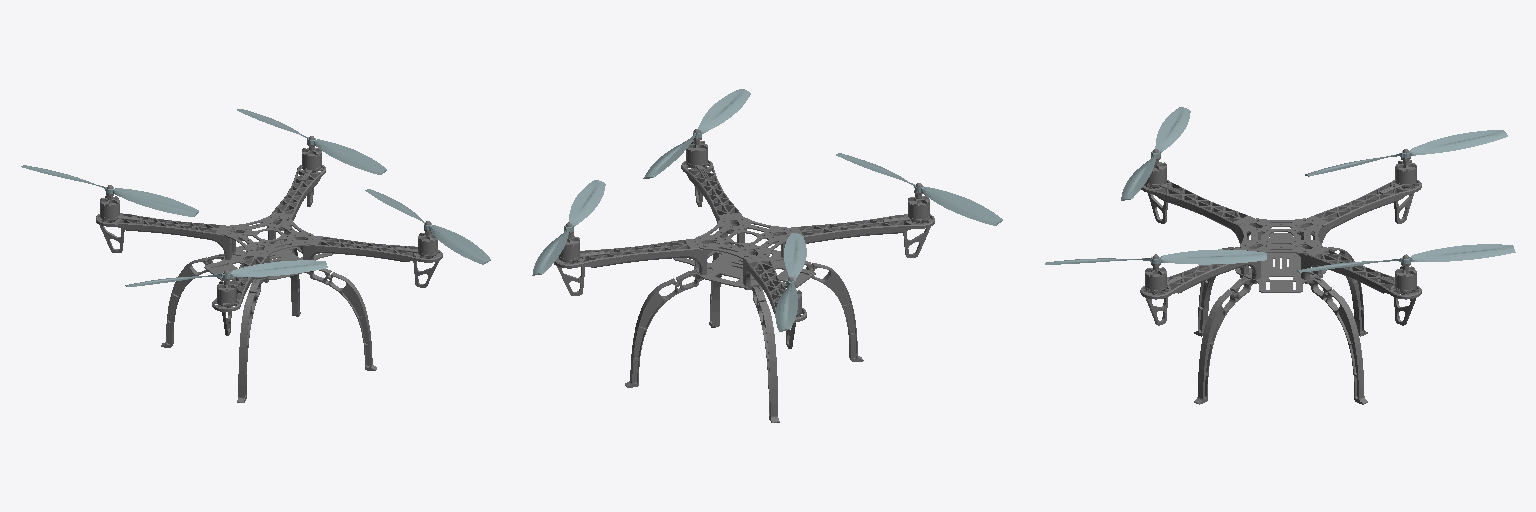
robot.urdf — dronesma:
<?xml version="1.0" encoding="utf-8"?>
<!-- This URDF was automatically created by SolidWorks to URDF Exporter! Originally created by [author] ([email redacted]) 
     Commit Version: 1.6.0-4-g7f85cfe  Build Version: 1.6.7995.38578
     For more information, please see http://wiki.ros.org/sw_urdf_exporter -->
<robot
  name="dronesma">
  <link
    name="base_drone">
    <inertial>
      <origin
        xyz="0 0 0"
        rpy="0 0 0" />
      <mass
        value="0.77242" />
      <inertia
        ixx="0.00057079"
        ixy="1.9621E-10"
        ixz="1.0111E-11"
        iyy="0.00059684"
        iyz="1.6818E-11"
        izz="0.00086065" />
    </inertial>
    <visual>
      <origin
        xyz="0 0 0"
        rpy="0 0 0" />
      <geometry>
        <mesh
          filename="package://dronesma/meshes/base_drone.STL" />
      </geometry>
      <material
        name="">
        <color
          rgba="0.50196 0.50196 0.50196 1" />
      </material>
    </visual>
    <collision>
      <origin
        xyz="0 0 0"
        rpy="0 0 0" />
      <geometry>
        <mesh
          filename="package://dronesma/meshes/base_drone.STL" />
      </geometry>
    </collision>
  </link>
  <link
    name="fan_AVD">
    <inertial>
      <origin
        xyz="-1.1724E-10 4.7289E-10 -0.0022673"
        rpy="0 0 0" />
      <mass
        value="0.079235" />
      <inertia
        ixx="0.00056544"
        ixy="3.5825E-05"
        ixz="2.1611E-14"
        iyy="4.6143E-06"
        iyz="-8.9423E-14"
        izz="0.00056968" />
    </inertial>
    <visual>
      <origin
        xyz="0 0 0"
        rpy="0 0 0" />
      <geometry>
        <mesh
          filename="package://dronesma/meshes/fan_AVD.STL" />
      </geometry>
      <material
        name="">
        <color
          rgba="0.59216 0.66667 0.68235 1" />
      </material>
    </visual>
    <collision>
      <origin
        xyz="0 0 0"
        rpy="0 0 0" />
      <geometry>
        <mesh
          filename="package://dronesma/meshes/fan_AVD.STL" />
      </geometry>
    </collision>
  </link>
  <joint
    name="fan_AVDjoint"
    type="continuous">
    <origin
      xyz="0.16299 -0.16299 0.2345"
      rpy="0 0 0" />
    <parent
      link="base_drone" />
    <child
      link="fan_AVD" />
    <axis
      xyz="0 0 -1" />
  </joint>
  <link
    name="fan_AVG">
    <inertial>
      <origin
        xyz="7.7389E-10 3.7683E-11 -0.0022673"
        rpy="0 0 0" />
      <mass
        value="0.079235" />
      <inertia
        ixx="0.00053874"
        ixy="0.0001247"
        ixz="6.9877E-14"
        iyy="3.1323E-05"
        iyz="2.427E-13"
        izz="0.00056968" />
    </inertial>
    <visual>
      <origin
        xyz="0 0 0"
        rpy="0 0 0" />
      <geometry>
        <mesh
          filename="package://dronesma/meshes/fan_AVG.STL" />
      </geometry>
      <material
        name="">
        <color
          rgba="0.59216 0.66667 0.68235 1" />
      </material>
    </visual>
    <collision>
      <origin
        xyz="0 0 0"
        rpy="0 0 0" />
      <geometry>
        <mesh
          filename="package://dronesma/meshes/fan_AVG.STL" />
      </geometry>
    </collision>
  </link>
  <joint
    name="fan_AVGjoint"
    type="continuous">
    <origin
      xyz="0.16299 0.16299 0.2345"
      rpy="0 0 0" />
    <parent
      link="base_drone" />
    <child
      link="fan_AVG" />
    <axis
      xyz="0 0 -1" />
  </joint>
  <link
    name="fan_AD">
    <inertial>
      <origin
        xyz="-4.8444E-10 5.1936E-11 -0.0022673"
        rpy="0 0 0" />
      <mass
        value="0.079235" />
      <inertia
        ixx="4.7424E-05"
        ixy="0.00015317"
        ixz="9.1414E-14"
        iyy="0.00052263"
        iyz="-1.0346E-14"
        izz="0.00056968" />
    </inertial>
    <visual>
      <origin
        xyz="0 0 0"
        rpy="0 0 0" />
      <geometry>
        <mesh
          filename="package://dronesma/meshes/fan_AD.STL" />
      </geometry>
      <material
        name="">
        <color
          rgba="0.59216 0.66667 0.68235 1" />
      </material>
    </visual>
    <collision>
      <origin
        xyz="0 0 0"
        rpy="0 0 0" />
      <geometry>
        <mesh
          filename="package://dronesma/meshes/fan_AD.STL" />
      </geometry>
    </collision>
  </link>
  <joint
    name="fan_ADjoint"
    type="continuous">
    <origin
      xyz="-0.16299 -0.16299 0.2345"
      rpy="0 0 0" />
    <parent
      link="base_drone" />
    <child
      link="fan_AD" />
    <axis
      xyz="0 0 -1" />
  </joint>
  <link
    name="fan_AG">
    <inertial>
      <origin
        xyz="-2.8687E-10 3.938E-10 -0.0022673"
        rpy="0 0 0" />
      <mass
        value="0.079235" />
      <inertia
        ixx="0.00046072"
        ixy="0.00022147"
        ixz="5.3729E-14"
        iyy="0.00010934"
        iyz="-7.4677E-14"
        izz="0.00056968" />
    </inertial>
    <visual>
      <origin
        xyz="0 0 0"
        rpy="0 0 0" />
      <geometry>
        <mesh
          filename="package://dronesma/meshes/fan_AG.STL" />
      </geometry>
      <material
        name="">
        <color
          rgba="0.59216 0.66667 0.68235 1" />
      </material>
    </visual>
    <collision>
      <origin
        xyz="0 0 0"
        rpy="0 0 0" />
      <geometry>
        <mesh
          filename="package://dronesma/meshes/fan_AG.STL" />
      </geometry>
    </collision>
  </link>
  <joint
    name="fan_AGjoint"
    type="continuous">
    <origin
      xyz="-0.16299 0.16299 0.2345"
      rpy="0 0 0" />
    <parent
      link="base_drone" />
    <child
      link="fan_AG" />
    <axis
      xyz="0 0 -1" />
  </joint>
</robot>

--- Facts derived from the render (not from the file) ---
3 views of the same robot in one strip: view 1: azimuth 30°, elevation 25°; view 2: azimuth 150°, elevation 25°; view 3: azimuth 270°, elevation 25° (orthographic).
Model dronesma with 5 links and 4 joints (4 continuous), rooted at base_drone, posed all joints at 0.
Links seen in each view (by area): view 1: base_drone, fan_AD, fan_AG, fan_AVG, fan_AVD; view 2: base_drone, fan_AD, fan_AVD, fan_AVG, fan_AG; view 3: base_drone, fan_AVG, fan_AVD, fan_AG, fan_AD.
Boxes of the visible links, x1,y1,x2,y2 form: base_drone: [96, 136, 442, 402]; fan_AD: [125, 260, 327, 286]; fan_AG: [21, 165, 198, 216]; fan_AVG: [237, 109, 386, 174]; fan_AVD: [365, 189, 490, 264]; base_drone: [554, 129, 934, 422]; fan_AD: [836, 153, 1002, 225]; fan_AVD: [643, 89, 750, 178]; fan_AVG: [532, 180, 605, 275]; fan_AG: [775, 233, 806, 331]; base_drone: [1140, 149, 1421, 404]; fan_AVG: [1297, 244, 1515, 272]; fan_AVD: [1045, 249, 1266, 264]; fan_AG: [1305, 130, 1507, 176]; fan_AD: [1121, 107, 1190, 200].
Bounding box of the posed robot: 0.5104 × 0.6135 × 0.239 m (x, y, z).
5 mesh visuals loaded from 5 distinct referenced files (5 binary STL).